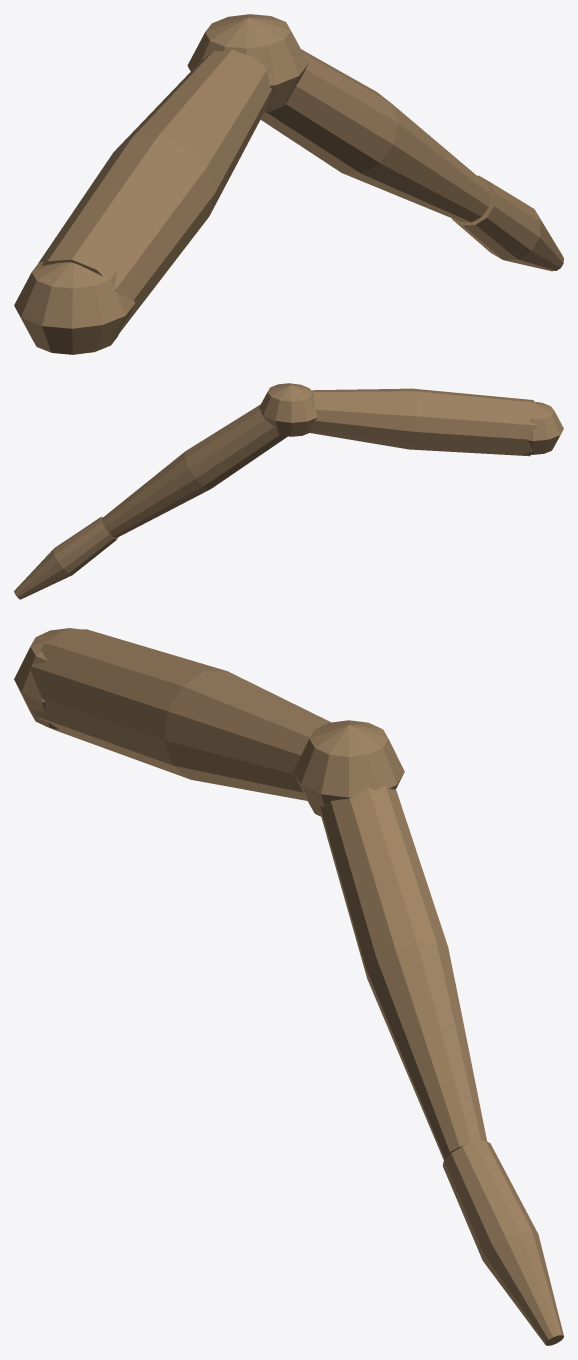
File: scorpion_leg_r1_original_01.glb
3 renders of one model, top to bottom at view 1: azimuth 30°, elevation 25°; view 2: azimuth 150°, elevation 25°; view 3: azimuth 270°, elevation 25°, orthographic. The views are drawn at different scales.
Visible parts, largest first — view 1: S0_RLeg1Segment1, S0_RLeg1Segment2, S0_RLeg1Joint0, S0_RLeg1Joint1, S0_RLeg1Segment3; view 2: S0_RLeg1Segment1, S0_RLeg1Segment2, S0_RLeg1Segment3, S0_RLeg1Joint1, S0_RLeg1Joint0; view 3: S0_RLeg1Segment1, S0_RLeg1Segment2, S0_RLeg1Segment3, S0_RLeg1Joint1, S0_RLeg1Joint0.
Part boxes in pixels (<box>): S0_RLeg1Segment1: <box>38,49,271,335</box>; S0_RLeg1Segment2: <box>260,49,491,222</box>; S0_RLeg1Joint0: <box>14,261,135,354</box>; S0_RLeg1Joint1: <box>187,14,308,112</box>; S0_RLeg1Segment3: <box>452,175,563,271</box>; S0_RLeg1Segment1: <box>310,388,537,456</box>; S0_RLeg1Segment2: <box>101,404,287,538</box>; S0_RLeg1Segment3: <box>14,516,117,599</box>; S0_RLeg1Joint1: <box>259,383,317,436</box>; S0_RLeg1Joint0: <box>525,402,563,454</box>; S0_RLeg1Segment1: <box>30,629,330,800</box>; S0_RLeg1Segment2: <box>320,785,487,1159</box>; S0_RLeg1Segment3: <box>442,1140,563,1345</box>; S0_RLeg1Joint1: <box>293,720,404,816</box>; S0_RLeg1Joint0: <box>14,628,78,729</box>.
Bounding box in the file's own units: 0.612 × 0.3185 × 0.3743.
